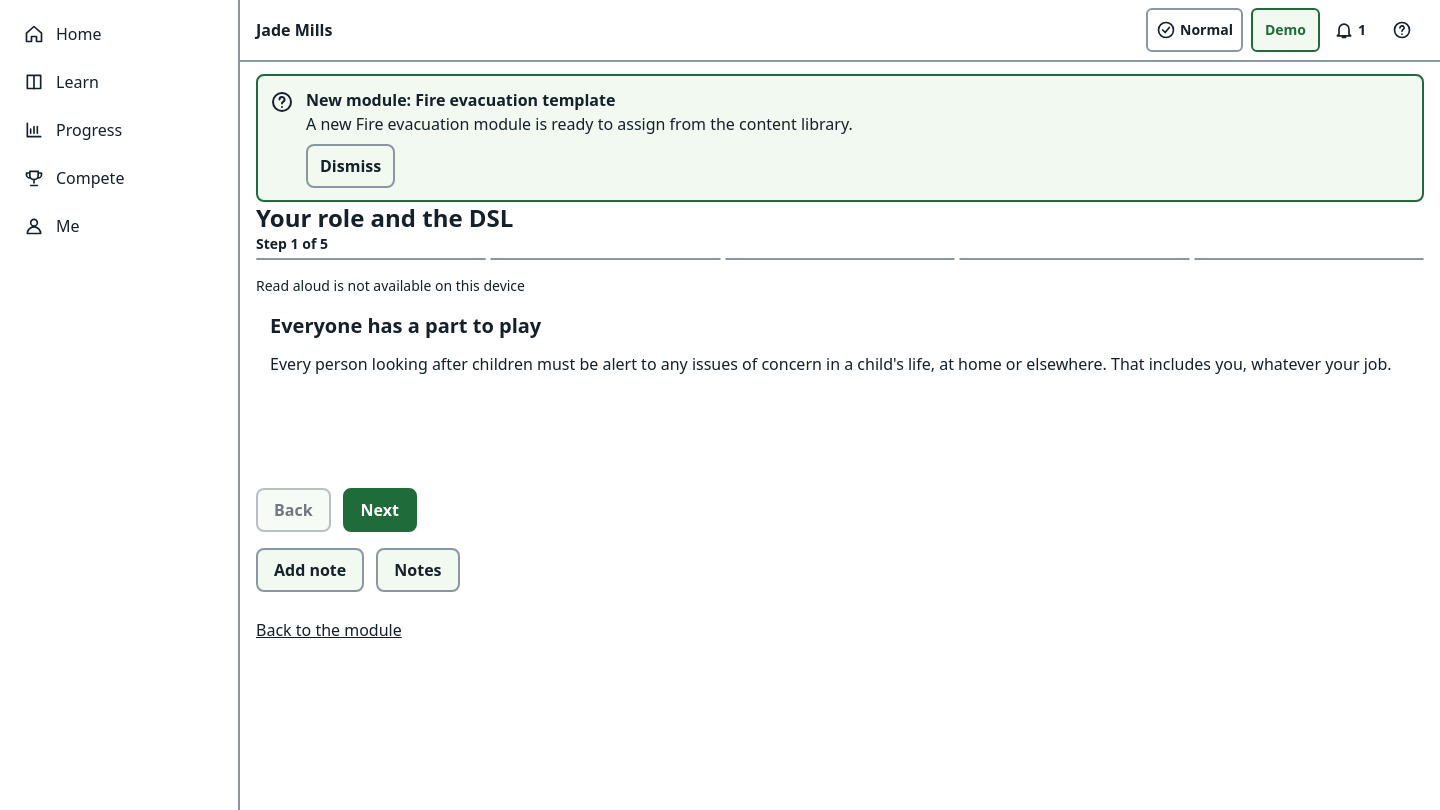
Scenario: S5 Add note sheet › shows the module and lesson names, the privacy reminder and a live character count
Click the button "Add note": (310, 570) [256,548,364,592]
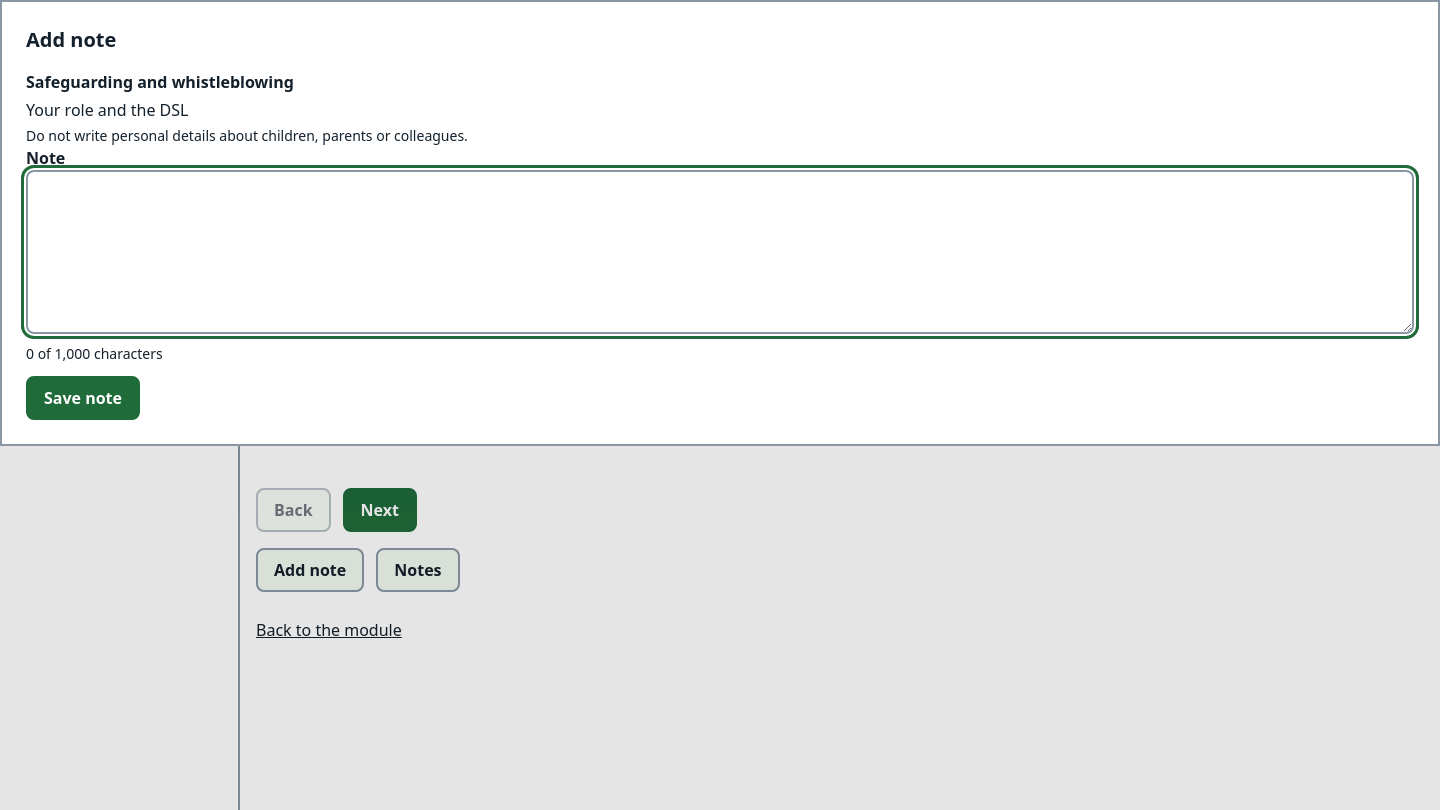
Result: the text "Safeguarding and whistleblowing" is shown at [26,71,294,93]
Result: the text "Your role and the DSL" is shown at [26,99,188,121]
Result: the text "personal details" is shown at [26,126,468,145]
In the text box labelled "Note": (720, 252) [26,170,1414,334], type "Hello"
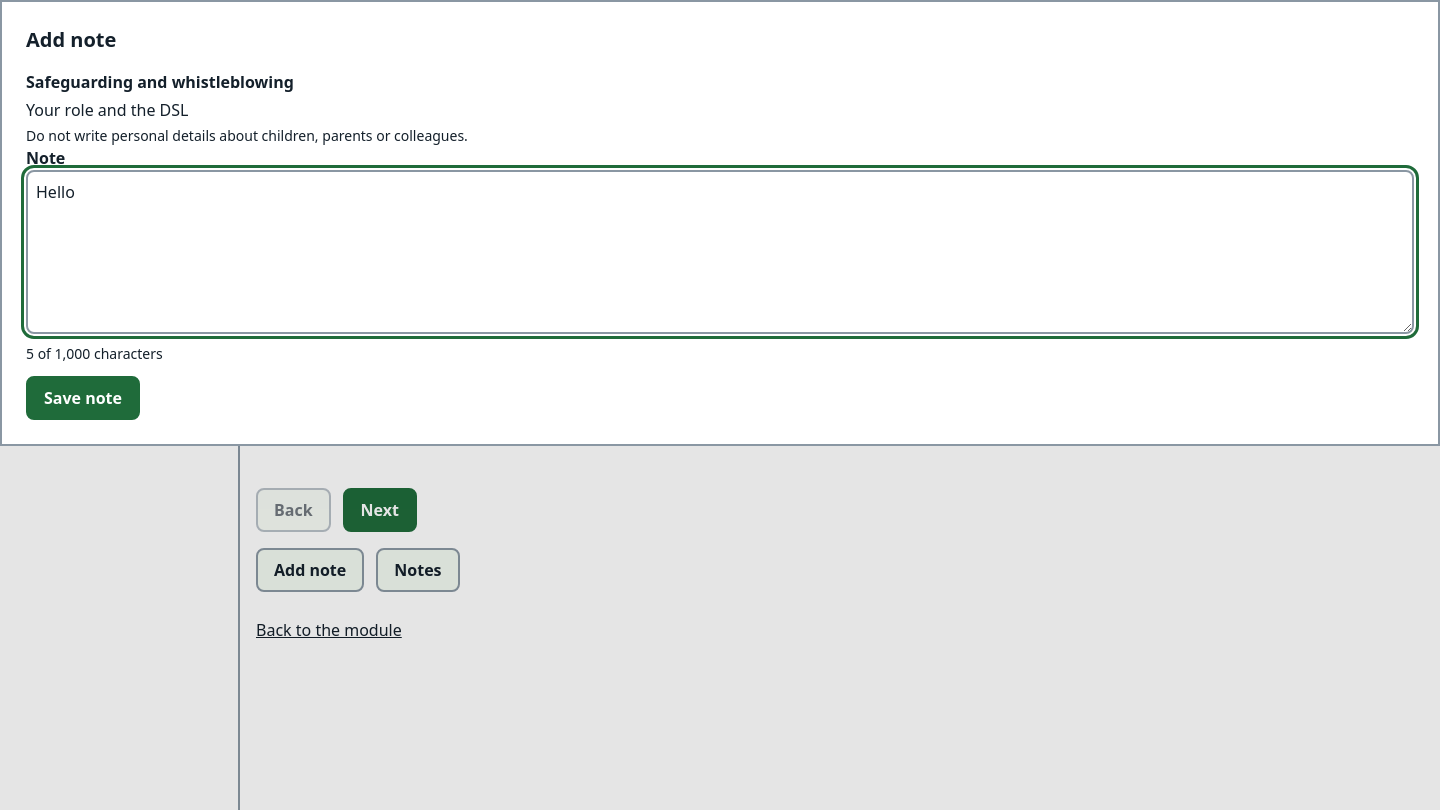
Result: the text with test id "note-count" reads "5 of 1,000 characters" at [26,344,163,363]
